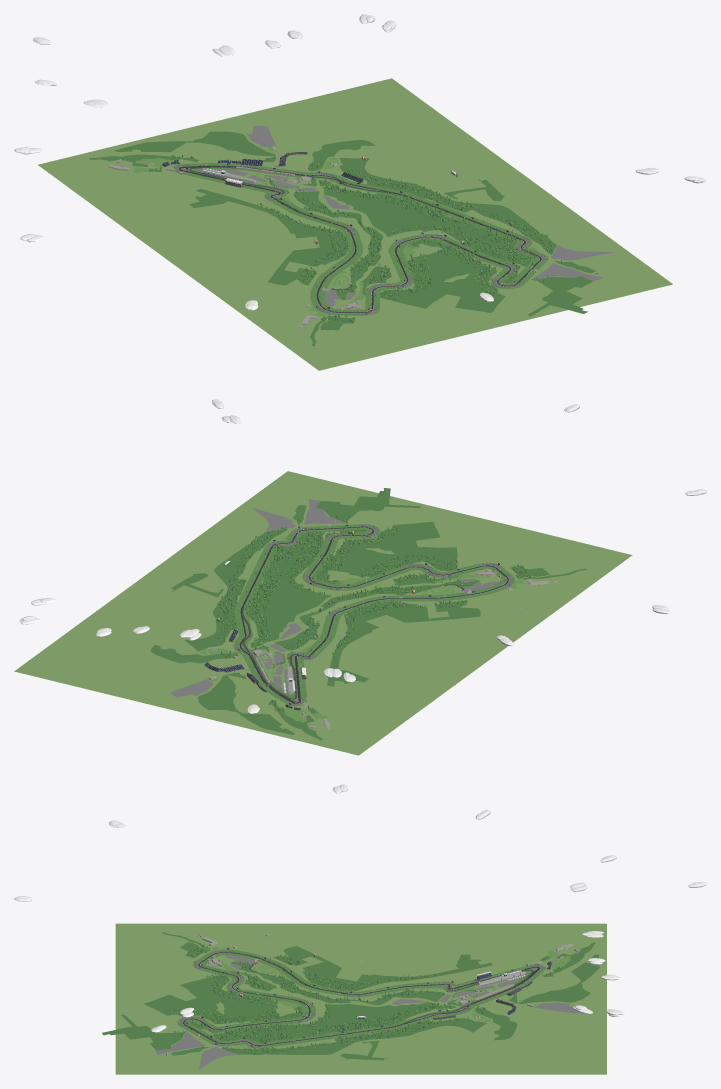
File: spa.glb
The picture shows the model from 3 angles, top to bottom: view 1: azimuth 30°, elevation 25°; view 2: azimuth 150°, elevation 25°; view 3: azimuth 270°, elevation 25°; orthographic projection. The views are drawn at different scales.
Parts seen in each view (by area): view 1: SueloBase, Bosques, Pasto, Arboles, Estacionamientos, Nubes, Asfalto, MurosContencion, AreasVerdes, Edificios, Escapatorias; view 2: SueloBase, Bosques, Pasto, Arboles, Estacionamientos, Nubes, Asfalto, AreasVerdes, MurosContencion, Edificios, Escapatorias; view 3: SueloBase, Bosques, Pasto, Arboles, Estacionamientos, Nubes, Asfalto, MurosContencion, AreasVerdes, Edificios, Escapatorias.
Part boxes in pixels (box(x1,y1,x2,y2)): SueloBase: box(38, 78, 672, 370); Bosques: box(89, 131, 595, 346); Pasto: box(172, 163, 547, 315); Arboles: box(155, 154, 562, 322); Estacionamientos: box(198, 126, 613, 307); Nubes: box(14, 14, 706, 310); Asfalto: box(179, 165, 541, 313); MurosContencion: box(174, 165, 545, 314); AreasVerdes: box(133, 147, 539, 315); Edificios: box(108, 146, 599, 328); Escapatorias: box(175, 165, 544, 314); SueloBase: box(14, 471, 632, 755); Bosques: box(151, 488, 586, 740); Pasto: box(233, 524, 514, 706); Arboles: box(217, 515, 531, 710); Estacionamientos: box(170, 499, 499, 697); Nubes: box(19, 399, 706, 713); Asfalto: box(239, 526, 508, 703); AreasVerdes: box(200, 535, 523, 722); MurosContencion: box(235, 524, 512, 705); Edificios: box(209, 501, 557, 729); Escapatorias: box(236, 525, 512, 705); SueloBase: box(115, 923, 606, 1074); Bosques: box(102, 932, 599, 1060); Pasto: box(177, 949, 545, 1048); Arboles: box(170, 944, 560, 1054); Estacionamientos: box(156, 955, 578, 1069); Nubes: box(14, 784, 706, 1032); Asfalto: box(182, 952, 540, 1046); MurosContencion: box(179, 950, 543, 1047); AreasVerdes: box(211, 946, 570, 1047); Edificios: box(166, 934, 578, 1055); Escapatorias: box(179, 950, 543, 1047).
Size of the model in its own units: 3344 by 483 by 3978.
49 materials, 6 textured.
